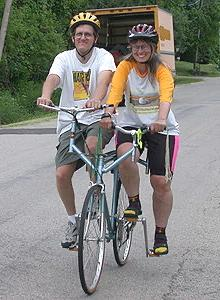With Helmet: (69, 12, 103, 53), (128, 23, 159, 62)
